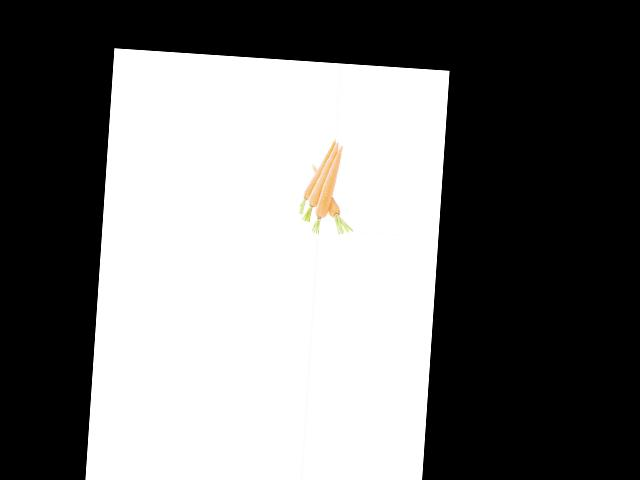carrot: (323, 194, 349, 227)
